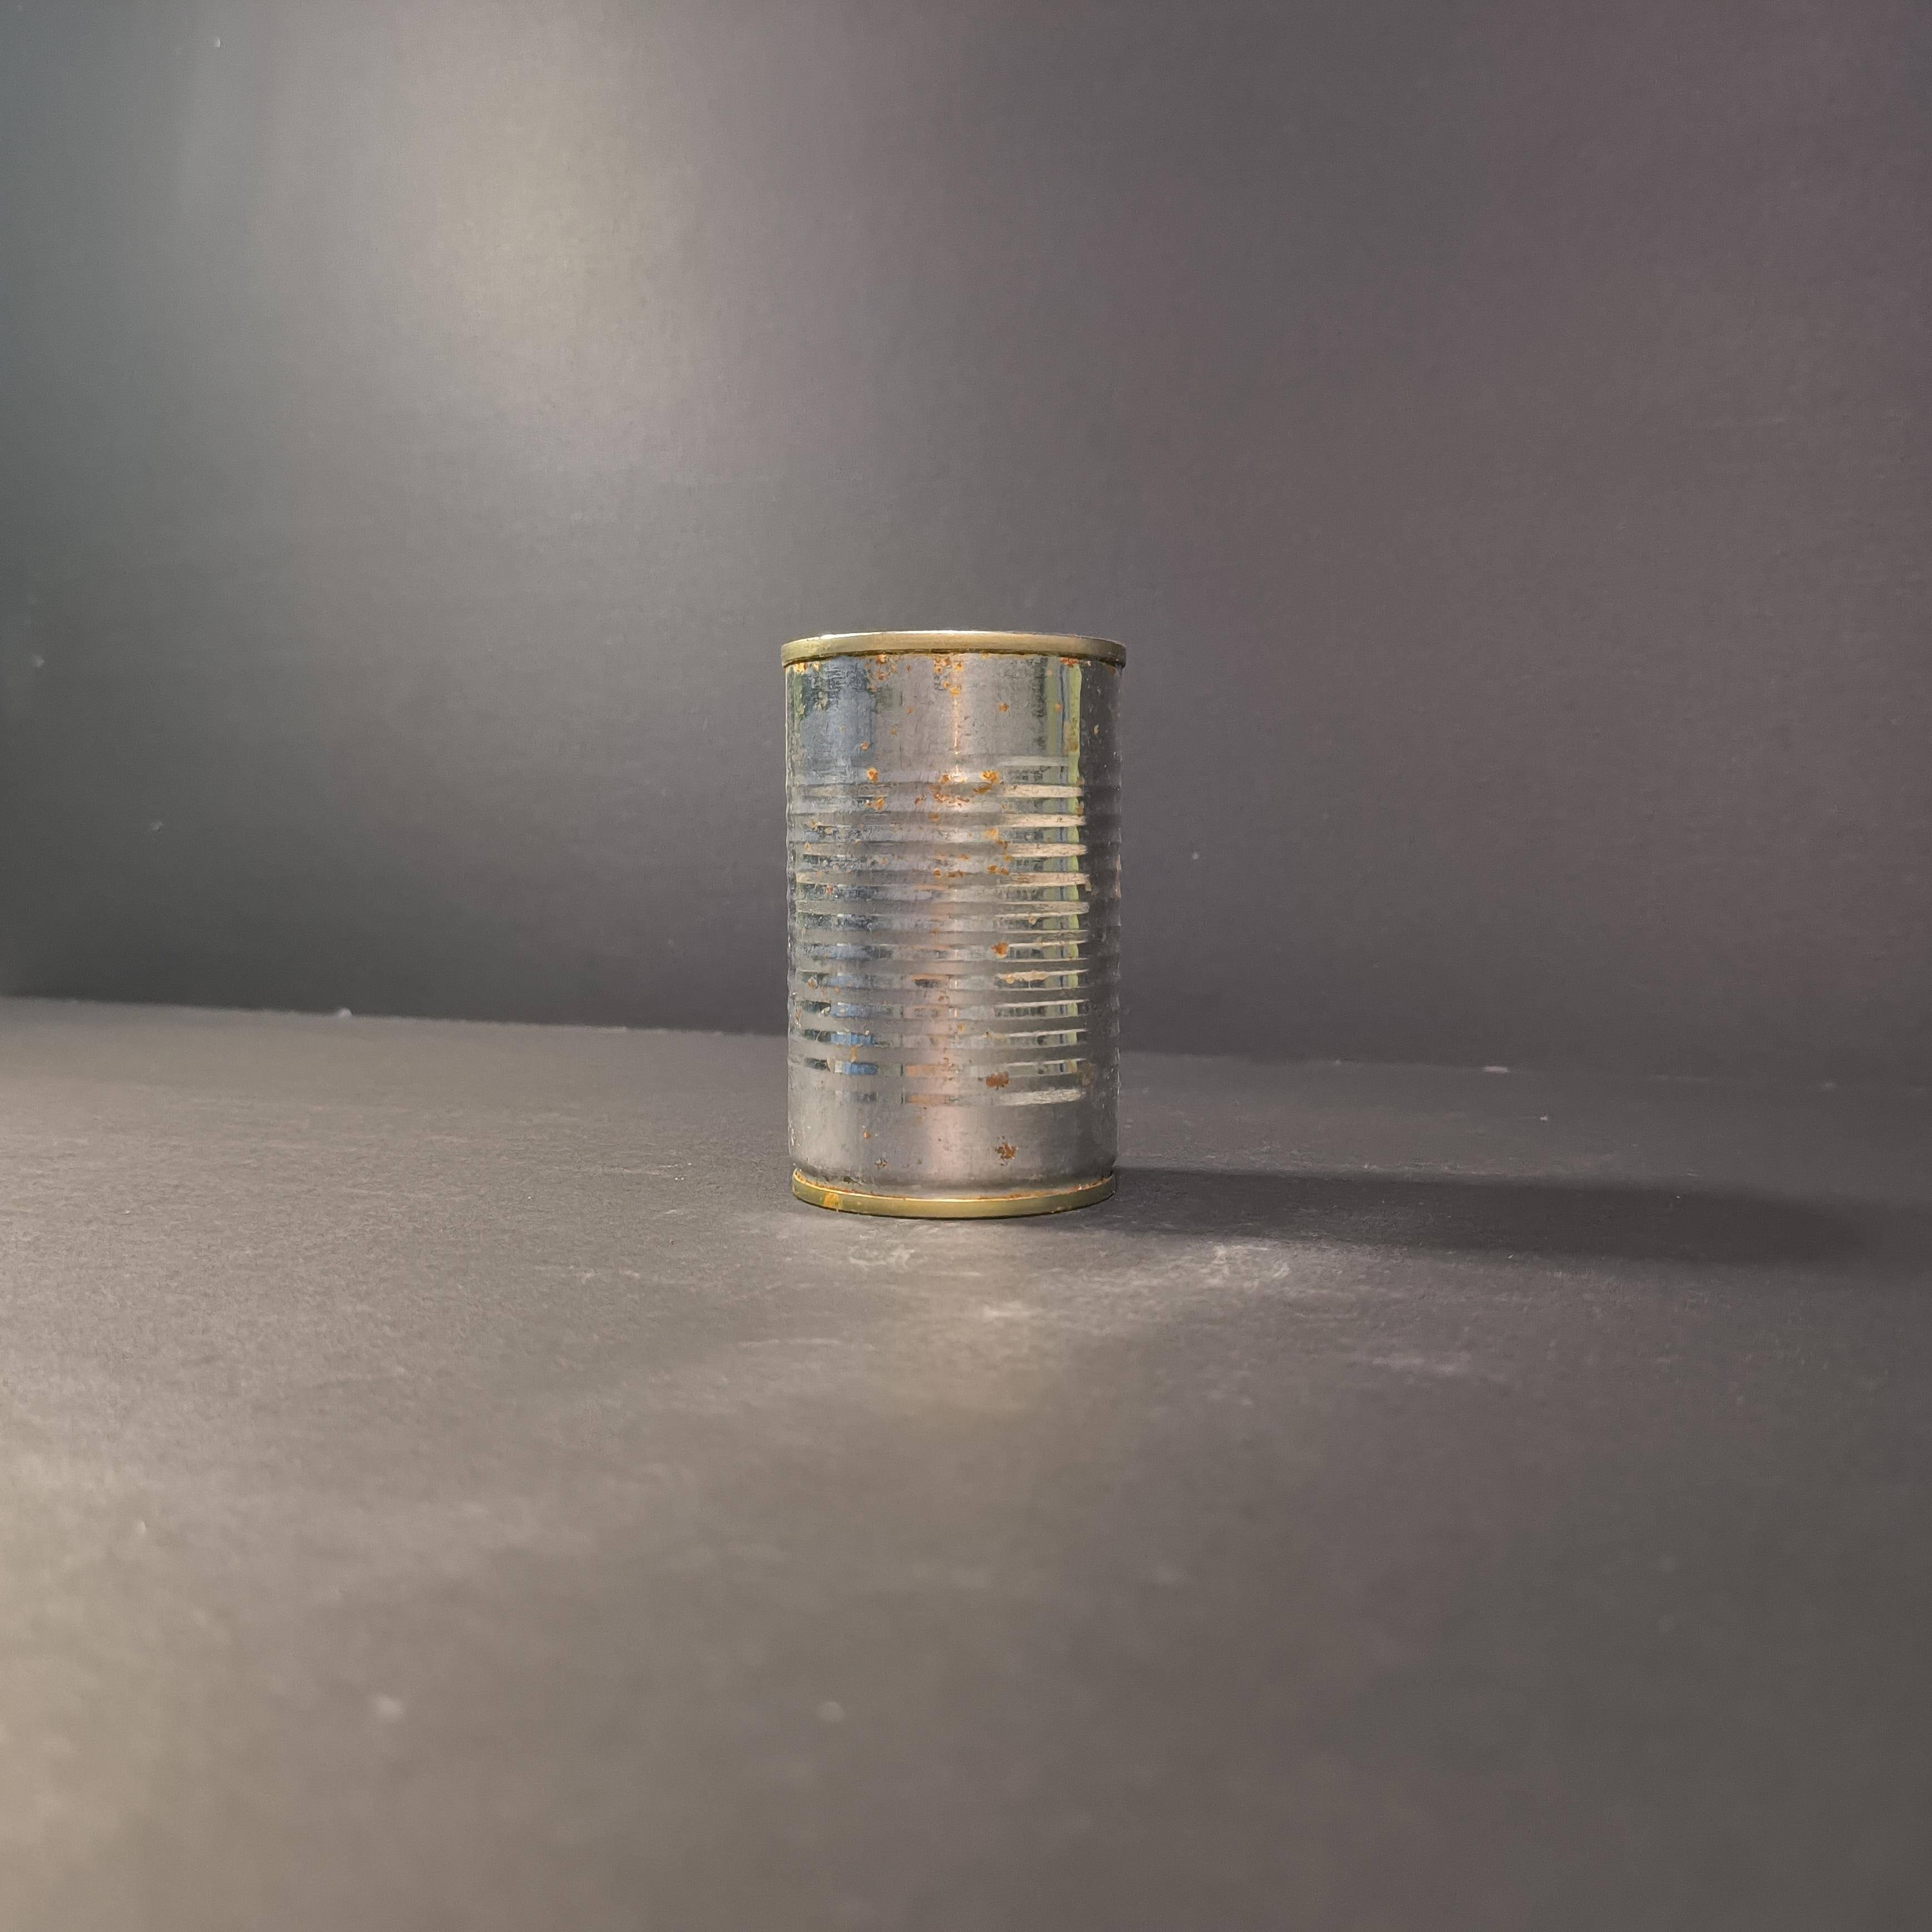Rusted: (754, 603, 1152, 1253)
